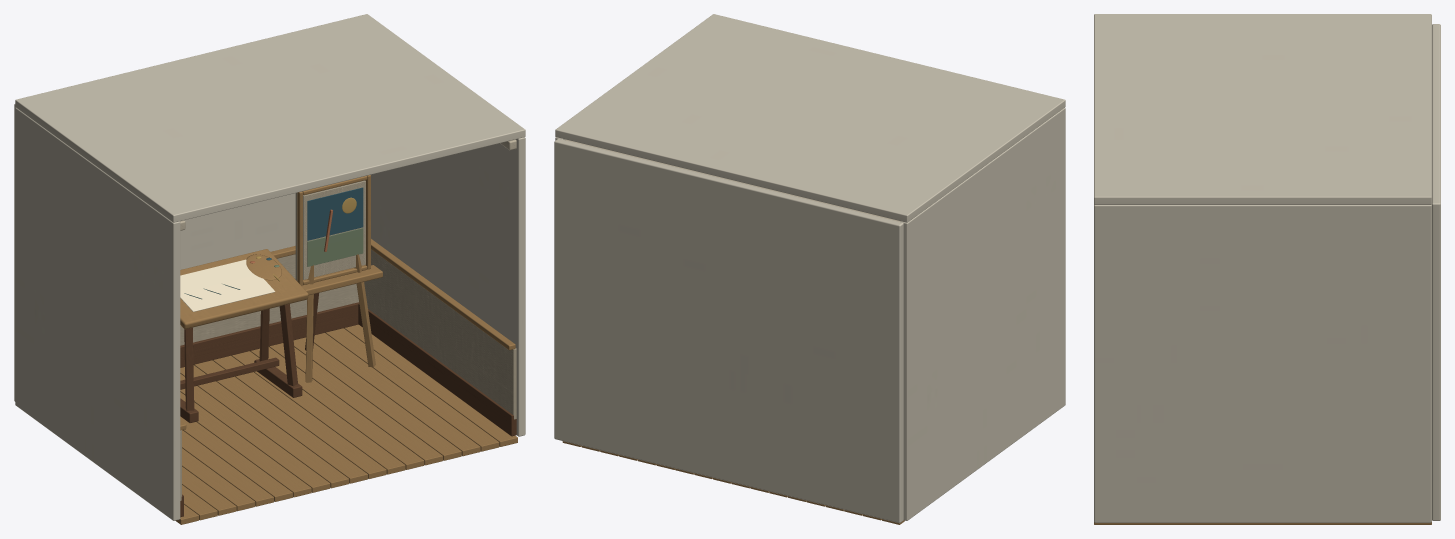
File: art.glb
The picture shows the model from 3 angles, left to right: view 1: azimuth 30°, elevation 25°; view 2: azimuth 150°, elevation 25°; view 3: azimuth 270°, elevation 25°; orthographic projection. The views are drawn at different scales.
Parts seen in each view (by area): view 1: Surface_Ivory_linen_plaster, Surface_Warm_oak, Surface_Linen, Surface_Walnut_joinery, Surface_Warm_paper, Surface_Cobalt_glaze, Surface_Olive_paint; view 2: Surface_Ivory_linen_plaster, Surface_Warm_oak; view 3: Surface_Ivory_linen_plaster, Surface_Warm_oak.
Boxes of the visible parts, box(x1,y1,x2,y2) form: Surface_Ivory_linen_plaster: box(14, 14, 525, 520); Surface_Warm_oak: box(175, 175, 517, 524); Surface_Linen: box(180, 180, 516, 500); Surface_Walnut_joinery: box(180, 293, 516, 517); Surface_Warm_paper: box(180, 259, 275, 311); Surface_Cobalt_glaze: box(266, 187, 363, 260); Surface_Olive_paint: box(274, 228, 363, 267); Surface_Ivory_linen_plaster: box(554, 14, 1065, 523); Surface_Warm_oak: box(562, 441, 904, 524); Surface_Ivory_linen_plaster: box(1094, 14, 1440, 522); Surface_Warm_oak: box(1094, 522, 1431, 524).
Size of the model in its own units: 3.34 by 2.82 by 2.67.
17 materials, 8 textured.
